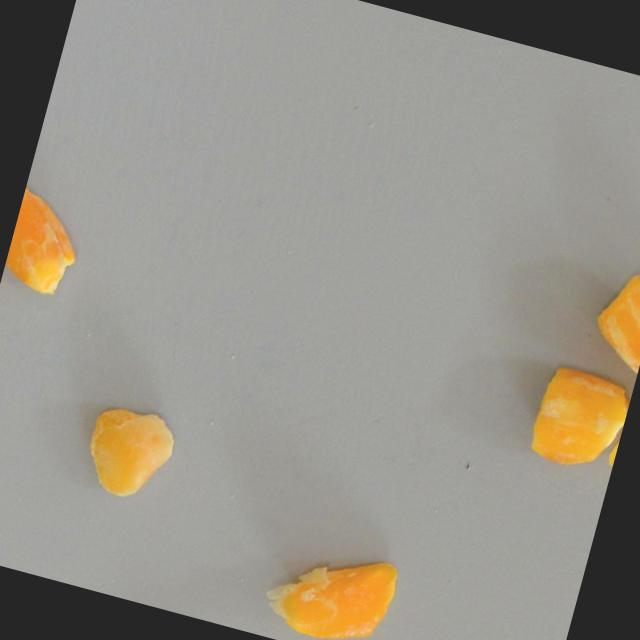pelicula: (255, 532, 402, 640), (522, 359, 635, 479), (75, 393, 181, 507), (0, 172, 94, 299), (582, 265, 640, 375)
